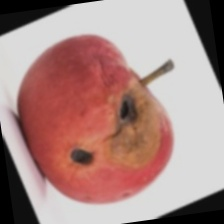apple: (23, 3, 183, 194)
